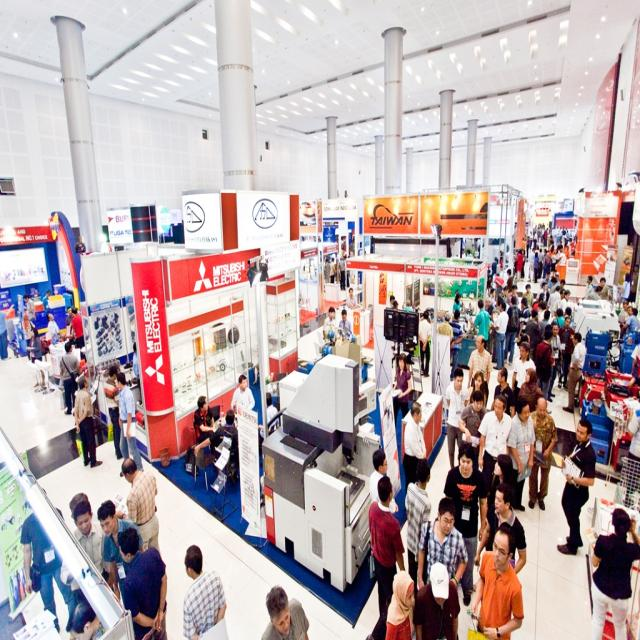body: (20, 488, 78, 634), (443, 440, 489, 608), (587, 503, 639, 639), (468, 521, 526, 640), (112, 525, 172, 639), (555, 415, 598, 557), (367, 474, 407, 617), (60, 492, 102, 620), (473, 481, 528, 576), (60, 499, 107, 607), (477, 394, 512, 533), (418, 497, 468, 591), (182, 543, 228, 640), (96, 500, 146, 588), (402, 456, 432, 602), (249, 578, 315, 639), (411, 560, 461, 640), (120, 456, 159, 551), (193, 408, 241, 482), (528, 396, 558, 512), (506, 397, 535, 513), (114, 371, 145, 478), (401, 396, 427, 520), (73, 374, 103, 469), (444, 366, 470, 469), (531, 322, 556, 417), (384, 569, 417, 640), (386, 292, 416, 368), (561, 331, 587, 415), (102, 365, 124, 461), (458, 389, 489, 457), (369, 448, 399, 515), (467, 334, 492, 408), (389, 352, 413, 429), (59, 339, 80, 416), (66, 603, 108, 640), (511, 341, 537, 400), (230, 375, 256, 433), (556, 315, 576, 390), (546, 320, 564, 403), (625, 403, 640, 501), (258, 391, 280, 457), (25, 326, 47, 391), (193, 394, 216, 456), (490, 301, 510, 371), (492, 365, 516, 418), (518, 366, 544, 414), (504, 296, 521, 366), (448, 309, 464, 383), (540, 279, 572, 316), (483, 268, 508, 315), (468, 298, 490, 350), (323, 254, 352, 292), (490, 296, 506, 364), (417, 307, 432, 378), (616, 300, 640, 343), (490, 453, 514, 491), (0, 302, 15, 362), (3, 307, 20, 359), (512, 320, 530, 368), (625, 342, 640, 399), (467, 369, 487, 409), (524, 309, 542, 353), (516, 296, 532, 343), (548, 233, 576, 259), (132, 340, 143, 406), (22, 313, 36, 364), (626, 263, 640, 311), (70, 306, 85, 349), (617, 272, 631, 316), (545, 284, 561, 318), (22, 293, 37, 328), (322, 306, 337, 341), (534, 246, 548, 280), (338, 308, 352, 341), (46, 311, 62, 338), (552, 288, 567, 316), (436, 312, 452, 338), (598, 276, 613, 301), (581, 274, 595, 300), (522, 282, 534, 312), (548, 259, 564, 281), (538, 309, 552, 334), (506, 284, 520, 308), (525, 246, 534, 282), (552, 307, 566, 330), (535, 281, 548, 305), (452, 291, 464, 317), (345, 286, 358, 310), (65, 306, 75, 336), (340, 234, 354, 255), (514, 248, 522, 283), (532, 221, 545, 242), (587, 284, 603, 301), (519, 248, 527, 280), (561, 315, 577, 331), (490, 255, 499, 282), (510, 224, 520, 248), (533, 251, 540, 284), (460, 242, 474, 258), (41, 290, 51, 312), (548, 225, 570, 235), (506, 267, 513, 294), (498, 249, 506, 268), (525, 235, 530, 261), (514, 248, 518, 280), (521, 236, 527, 255), (543, 225, 548, 246), (528, 230, 533, 249), (533, 230, 538, 248), (548, 208, 553, 226), (544, 321, 552, 330), (453, 289, 460, 299), (524, 236, 527, 247)
